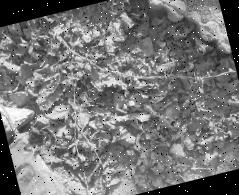organic: (108, 79, 152, 112), (161, 138, 187, 162), (16, 55, 40, 79), (113, 9, 138, 32), (70, 105, 92, 131), (115, 127, 138, 150), (42, 102, 68, 122), (103, 34, 121, 54)
